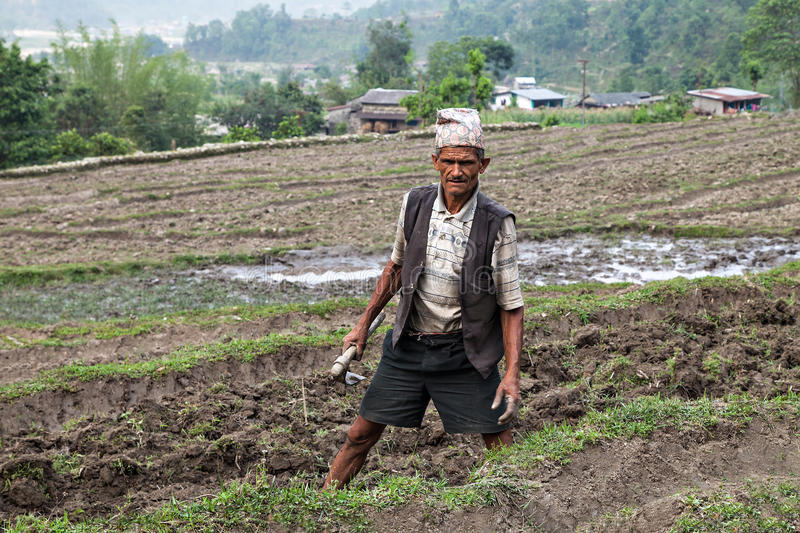human: (327, 99, 541, 492)
